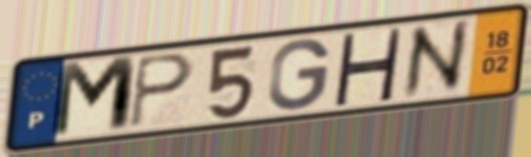5: (203, 41, 260, 121)
G: (265, 36, 334, 114)
H: (330, 27, 406, 107)
M: (48, 53, 141, 143)
N: (401, 16, 471, 103)
P: (127, 51, 197, 131)
